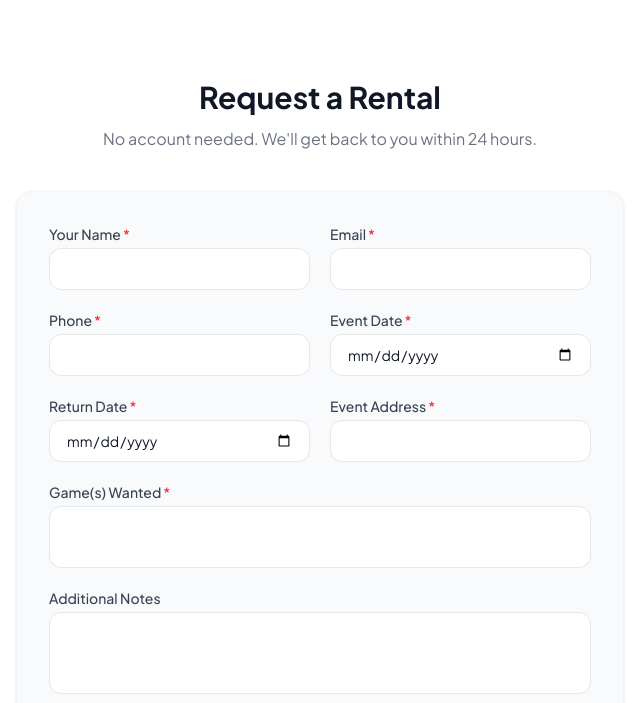
Test: RentalForm › shows date error when return date is before event date
The width and height of the screenshot is (641, 703).
Type "2026-07-10" into the date field labelled "Event Date*" at (460, 355), box [330,334,591,376]
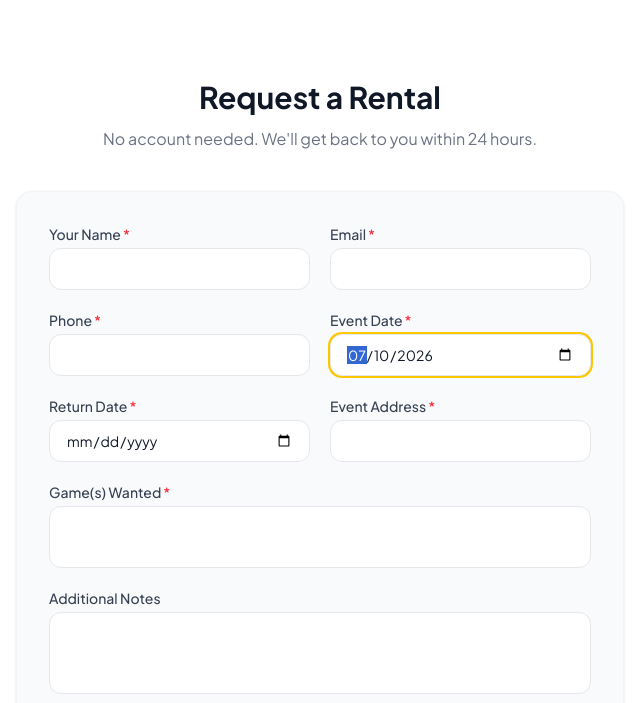
Type "2026-07-05" into the date field labelled "Return Date*" at (180, 441), box [49,420,310,462]
(page scrolled)
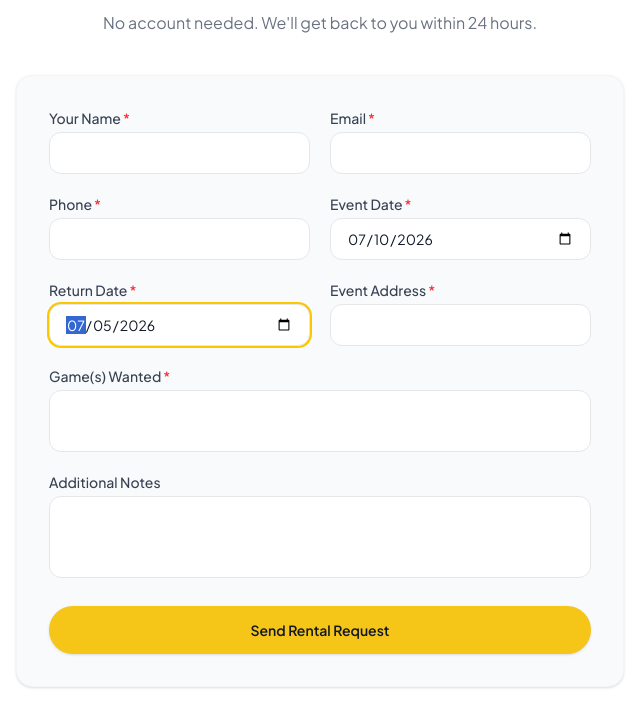
Click the button "Send Rental Request" at (320, 630), box [49,606,591,654]
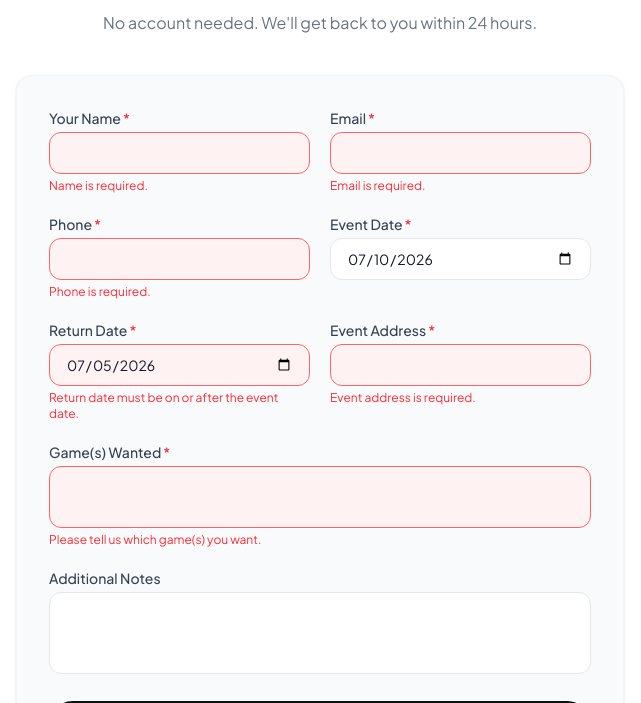
Expected: the text "Return date must be on or after the event date." is shown, [49,390,310,422]
